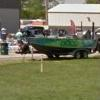Boat: (25, 28, 99, 61)
